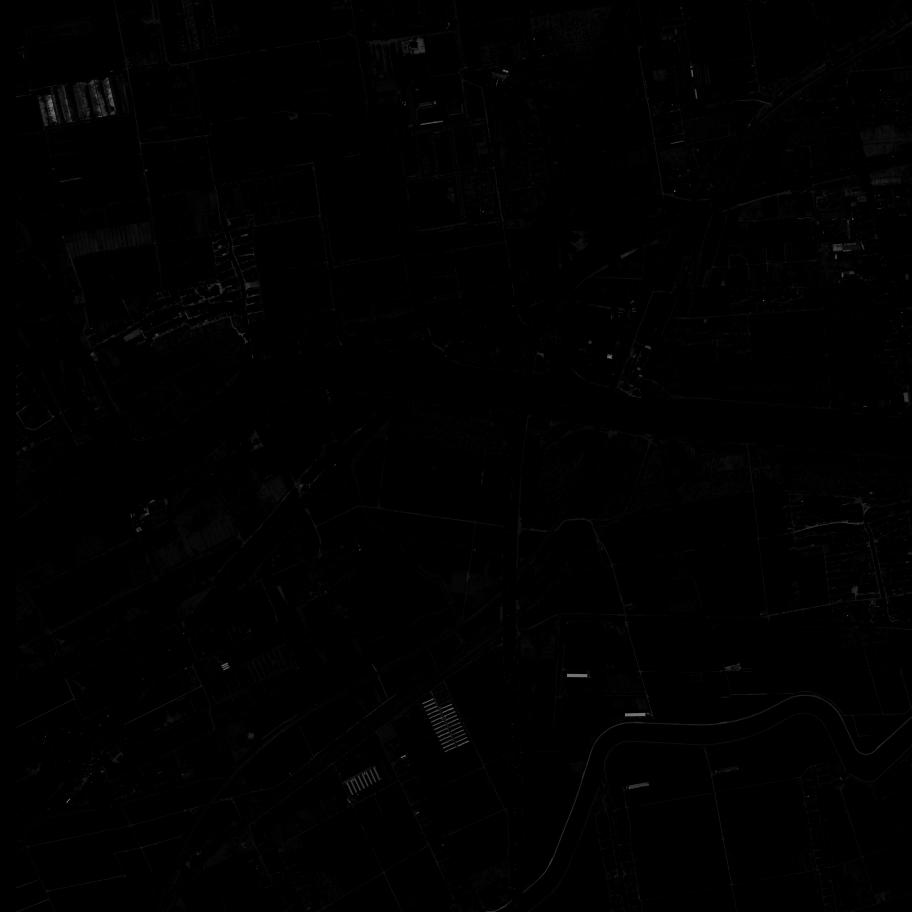ship: (247, 390, 258, 402), (61, 489, 75, 497), (557, 402, 570, 409), (649, 408, 661, 411)
